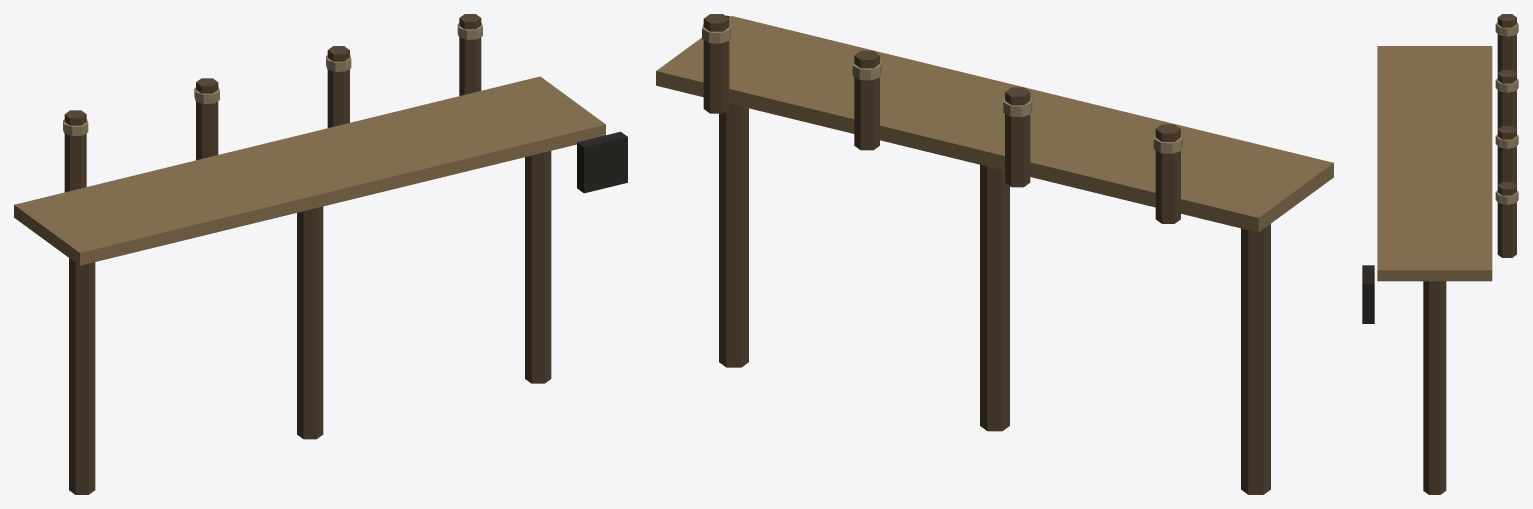
Rendered from K_DockFinger.glb.
3 renders of one model, left to right at view 1: azimuth 30°, elevation 25°; view 2: azimuth 150°, elevation 25°; view 3: azimuth 270°, elevation 25°, orthographic. The views are drawn at different scales.
Parts seen in each view (by area): view 1: K_DockFinger; view 2: K_DockFinger; view 3: K_DockFinger.
Boxes of the visible parts, x1,y1,x2,y2 form: K_DockFinger: (14,14,627,494); K_DockFinger: (656,14,1333,494); K_DockFinger: (1362,14,1518,494).
Bounding box in the file's own units: 6.15 × 3.67 × 1.77.
